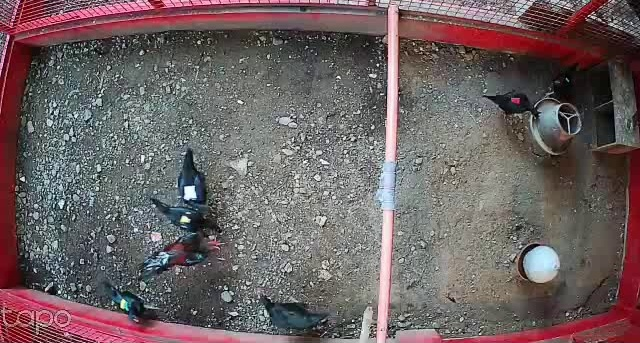Chicken: (257, 289, 331, 334), (146, 196, 222, 235), (100, 278, 164, 324), (174, 144, 213, 216), (482, 87, 540, 121), (545, 61, 583, 105)
Rooster: (138, 230, 229, 279)
Saddle_Color_Red: (511, 96, 521, 105)
Saddle_Color_White: (183, 184, 198, 200)
Saddle_Color_Yellow: (179, 212, 194, 224)
Saddle_Color_YellowGreen: (119, 299, 129, 310)
